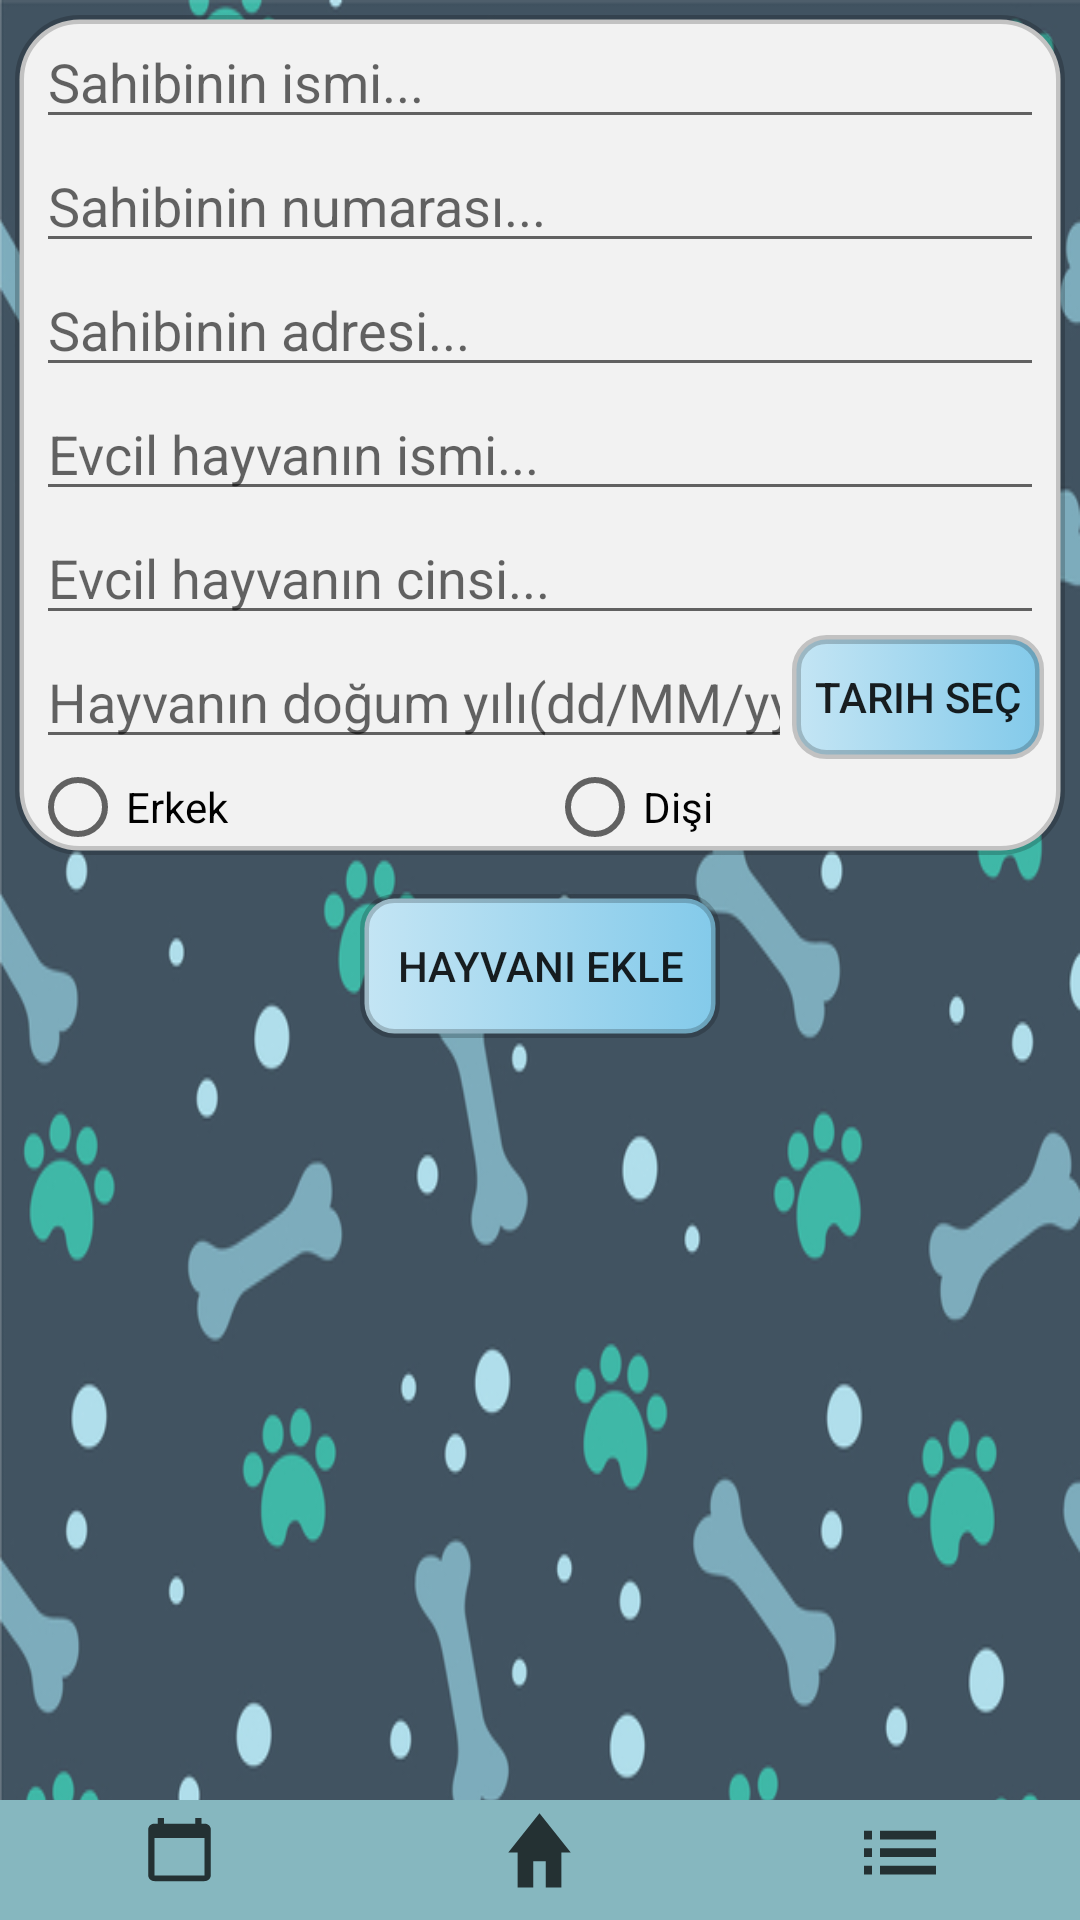

Screen size 1080x1920. Icon name, then its center in pixels as (x,y):
hover calendar: (179,1850)
hover home: (539,1850)
hover list: (900,1852)
